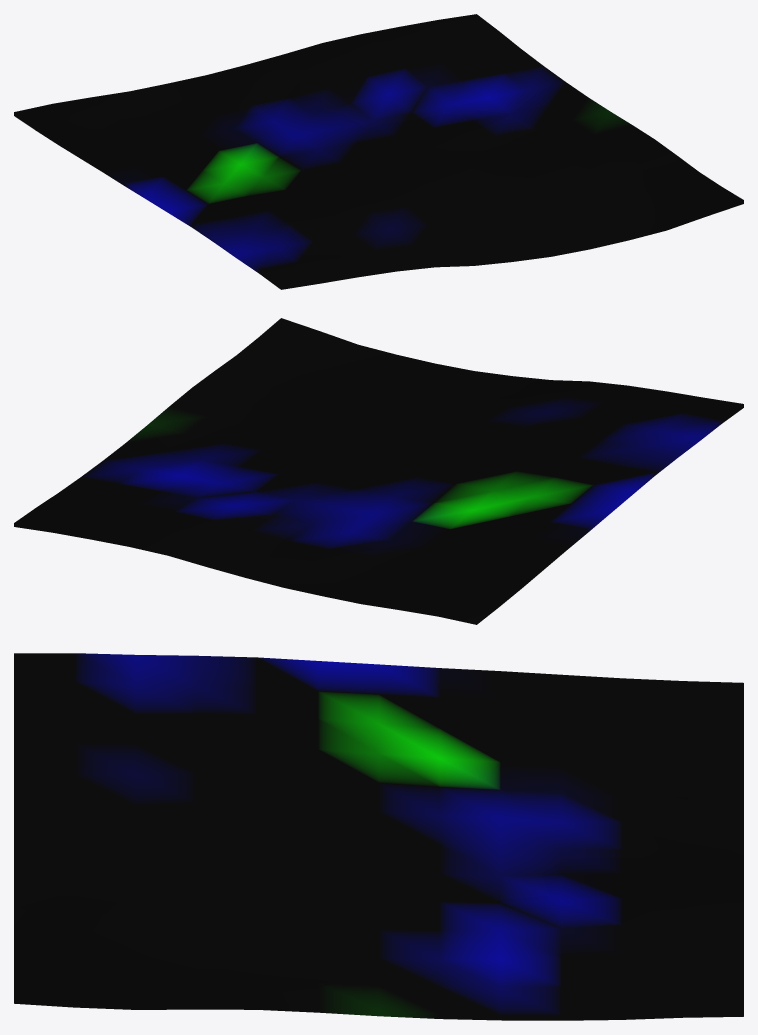
Rendered from coast_20_0.glb.
3 renders of one model, top to bottom at view 1: azimuth 30°, elevation 25°; view 2: azimuth 150°, elevation 25°; view 3: azimuth 270°, elevation 25°, orthographic. The views are drawn at different scales.
Visible parts, largest first — view 1: terrain; view 2: terrain; view 3: terrain.
Boxes of the visible parts, x1,y1,x2,y2 form: terrain: [14, 14, 743, 289]; terrain: [14, 318, 743, 624]; terrain: [14, 653, 743, 1020].
Bounding box in the file's own units: 192 × 17.15 × 192.
